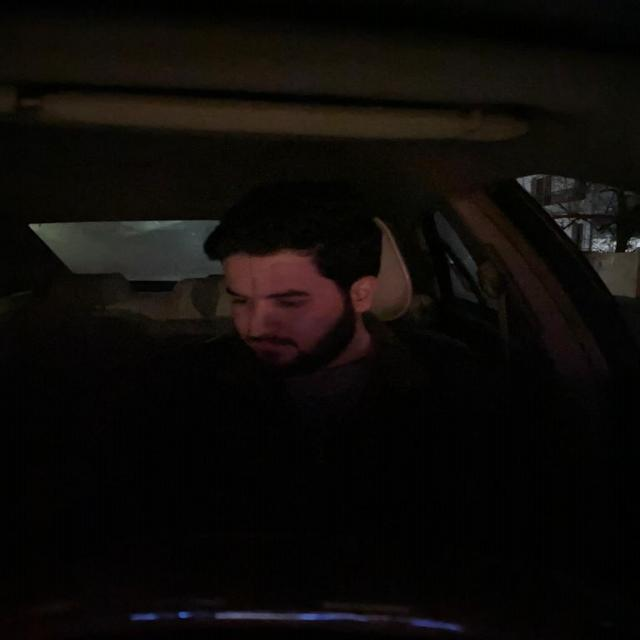person: (195, 202, 392, 372)
